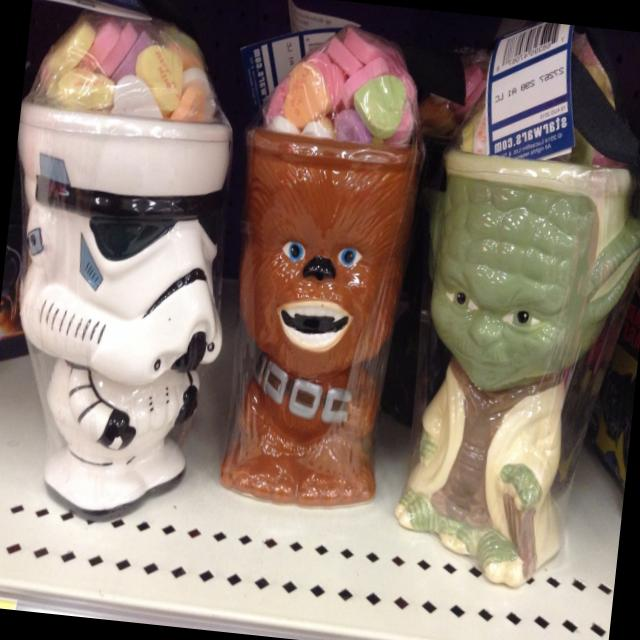Toy: (343, 11, 640, 588), (0, 0, 258, 521), (179, 0, 443, 507)
